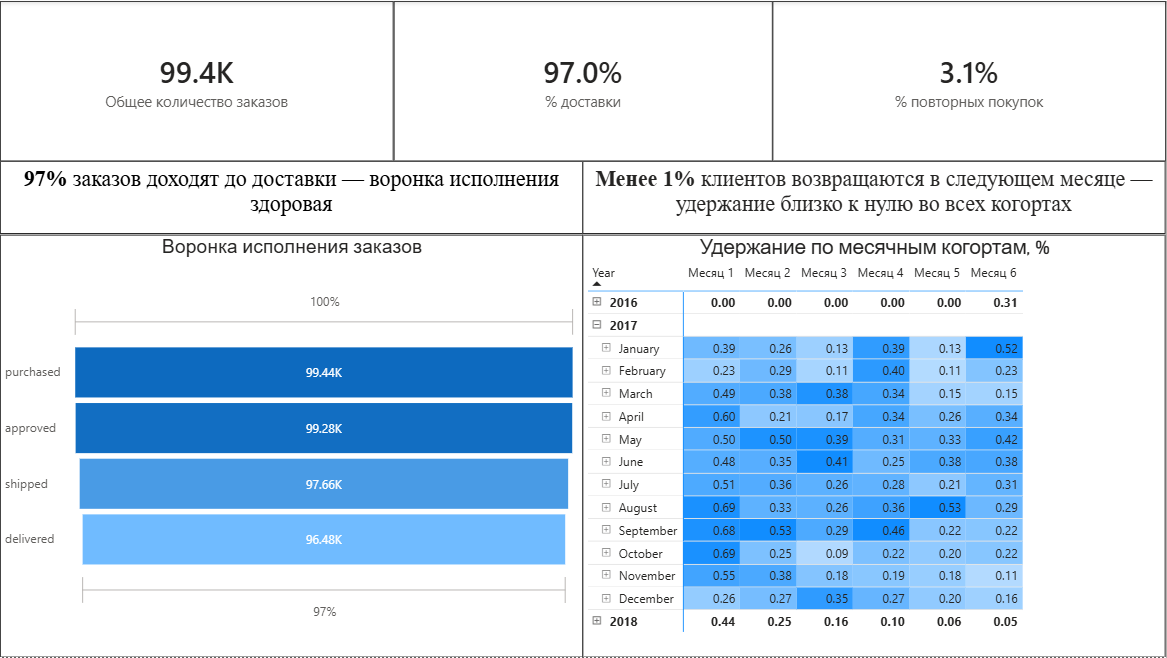

The dashboard page shown, as its layout file describes it:
{"tool":"powerbi","page":{"name":"Воронка и удержание","canvas":[1280,720],"ordinal":0},"visuals":[{"type":"funnel","title":"Воронка исполнения заказов","fields":{"Category":["public v_funnel.stage"],"Y":["Sum(public v_funnel.n_orders)"]},"box":[0,256,640,464],"z":0},{"type":"textbox","box":[0,176,640,80],"z":1000},{"type":"pivotTable","title":"Удержание по месячным когортам, %","fields":{"Rows":["public v_cohorts.cohort_month.Variation.Date Hierarchy.Year","public v_cohorts.cohort_month.Variation.Date Hierarchy.Month","public v_cohorts.cohort_month.Variation.Date Hierarchy.Day"],"Values":["Avg(public v_cohorts.m1_pct)","Avg(public v_cohorts.m2_pct)","Avg(public v_cohorts.m3_pct)","Avg(public v_cohorts.m4_pct)","Avg(public v_cohorts.m5_pct)","Avg(public v_cohorts.m6_pct)"]},"box":[640,256,640,464],"z":2000},{"type":"textbox","box":[640,176,640,80],"z":2001},{"type":"cardVisual","fields":{"Data":["Sum(public v_kpi.total_orders)"]},"box":[0,0,432,176],"z":2002},{"type":"cardVisual","fields":{"Data":["Sum(public v_kpi.delivery_rate)"]},"box":[432,0,416,176],"z":2003},{"type":"cardVisual","fields":{"Data":["Sum(public v_kpi.repeat_rate)"]},"box":[848,0,432,176],"z":2004}]}

Visuals, with their boxes in screenshot pixels (x1, y1, x2, y2), scaled from the page's 1280x720 canvas onto the 1167x658 screenshot:
"Воронка исполнения заказов" funnel: x1=0, y1=234, x2=584, y2=657
textbox: x1=0, y1=161, x2=584, y2=234
"Удержание по месячным когортам, %" pivotTable: x1=584, y1=234, x2=1166, y2=657
textbox: x1=584, y1=161, x2=1166, y2=234
cardVisual - Sum(public v_kpi.total_orders): x1=0, y1=0, x2=394, y2=161
cardVisual - Sum(public v_kpi.delivery_rate): x1=394, y1=0, x2=773, y2=161
cardVisual - Sum(public v_kpi.repeat_rate): x1=773, y1=0, x2=1166, y2=161
